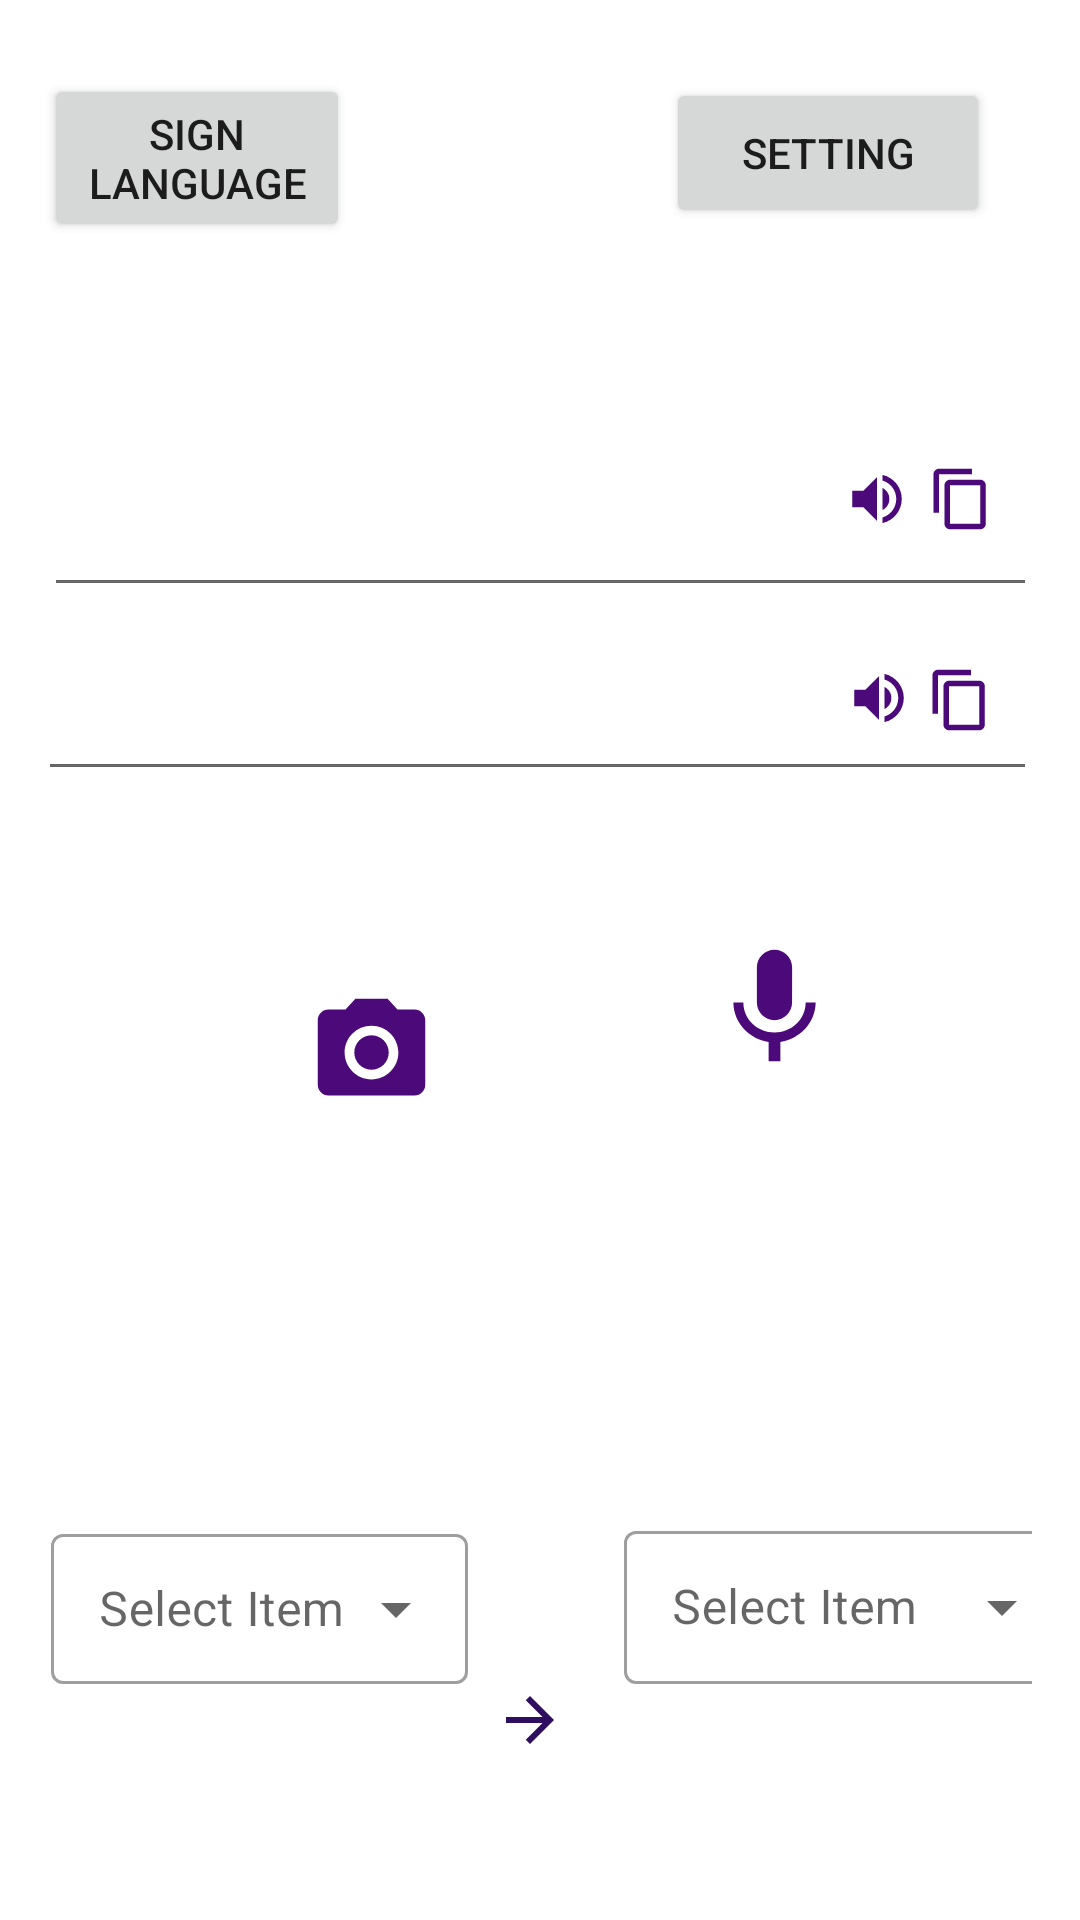

Icon click points for this 1080x1920 phone screenshot, format point (x, y):
content: point (959, 499), point (958, 700)
keyboard voice: point (774, 1005)
photo camera: point (371, 1047)
volume up: point (877, 499), point (879, 698)
